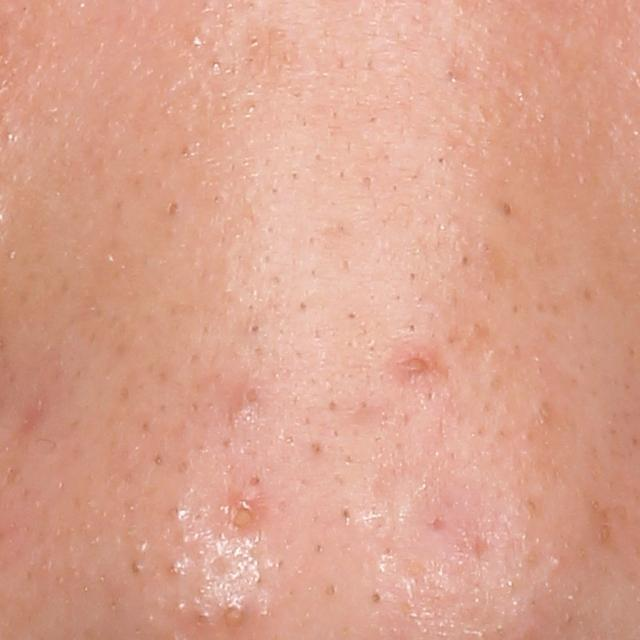comedo: (219, 600, 246, 632), (545, 554, 565, 576), (365, 588, 385, 608), (163, 197, 181, 218), (243, 386, 260, 405), (247, 320, 263, 335)
